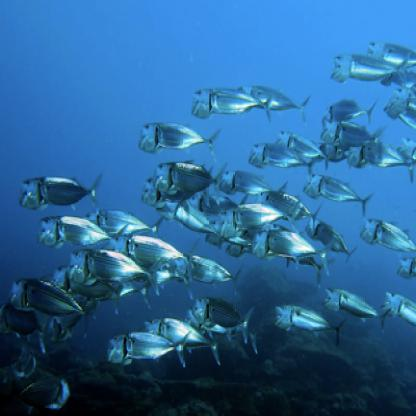tuna: (67, 246, 167, 298), (8, 276, 96, 331), (135, 118, 227, 165), (251, 230, 340, 277), (297, 169, 376, 220), (217, 196, 307, 239), (150, 160, 227, 209), (18, 172, 104, 214), (192, 86, 276, 129), (322, 286, 393, 336), (36, 213, 128, 251), (103, 330, 192, 369), (275, 302, 350, 348), (191, 294, 258, 345), (248, 140, 323, 185), (328, 51, 412, 91), (357, 214, 416, 254)
